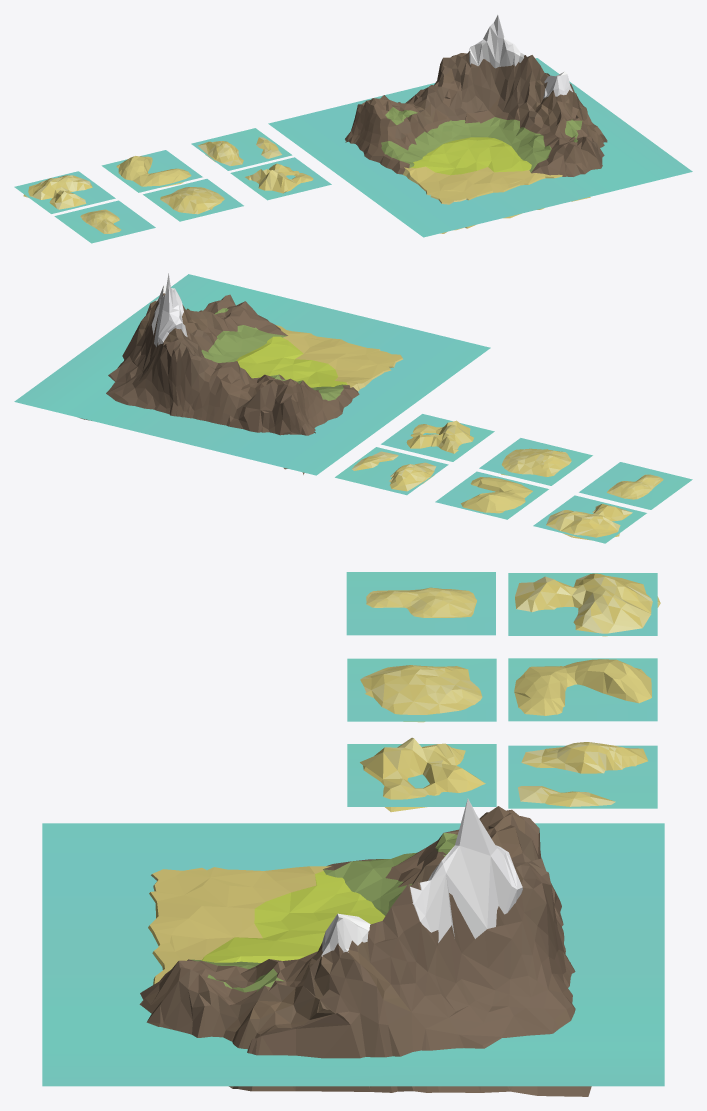
The model's file is pirate.fbx.
3 renders of one model, top to bottom at view 1: azimuth 30°, elevation 25°; view 2: azimuth 150°, elevation 25°; view 3: azimuth 270°, elevation 25°, orthographic. The views are drawn at different scales.
Parts seen in each view (by area): view 1: Land_1, Water_1, Water_2, Water_7, Land_5, Water_4, Land_6, Water_3, Water_6, Land_3, Land_4, Water_5 (+2 smaller); view 2: Water_1, Land_1, Water_2, Land_5, Water_7, Water_4, Land_6, Water_3, Land_3, Water_6, Land_4, Land_7 (+2 smaller); view 3: Water_1, Land_1, Water_2, Water_7, Land_5, Water_4, Land_6, Water_3, Water_6, Land_3, Land_4, Land_7 (+2 smaller).
Boxes of the visible parts, x1,y1,x2,y2 form: Land_1: [345, 15, 607, 233]; Water_1: [268, 58, 692, 237]; Water_2: [54, 200, 155, 243]; Water_7: [191, 128, 292, 170]; Land_5: [23, 175, 92, 209]; Water_4: [230, 157, 331, 200]; Land_6: [116, 156, 191, 187]; Water_3: [143, 179, 243, 221]; Water_6: [101, 150, 202, 192]; Land_3: [160, 187, 224, 214]; Land_4: [245, 163, 313, 193]; Water_5: [14, 171, 115, 213]; Water_1: [14, 274, 490, 475]; Land_1: [80, 273, 402, 474]; Water_2: [579, 462, 692, 509]; Land_5: [546, 504, 632, 540]; Water_7: [335, 447, 448, 495]; Water_4: [381, 414, 494, 461]; Land_6: [461, 477, 532, 513]; Water_3: [479, 438, 592, 485]; Land_3: [501, 448, 571, 476]; Water_6: [435, 471, 548, 519]; Land_4: [406, 420, 473, 453]; Land_7: [352, 451, 436, 491]; Water_1: [42, 823, 664, 1086]; Land_1: [139, 798, 591, 1096]; Water_2: [346, 572, 495, 635]; Water_7: [508, 745, 657, 808]; Land_5: [515, 573, 660, 636]; Water_4: [347, 744, 496, 806]; Land_6: [514, 659, 651, 715]; Water_3: [347, 658, 496, 721]; Water_6: [508, 658, 657, 721]; Land_3: [360, 665, 482, 722]; Land_4: [360, 737, 485, 812]; Land_7: [518, 742, 647, 806].
Bounding box in the file's own units: 7018 × 1646 × 3591.
1 material, 1 textured.
